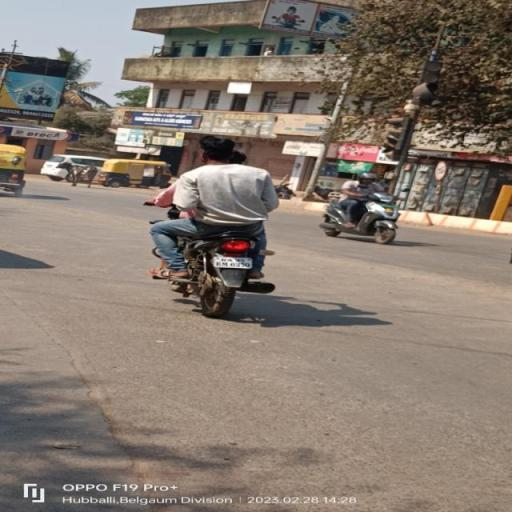bike: (144, 137, 292, 319)
numberplate: (213, 258, 254, 268)
withouthelmet: (200, 138, 235, 162)
